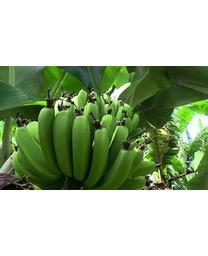banana: (10, 90, 155, 187)
